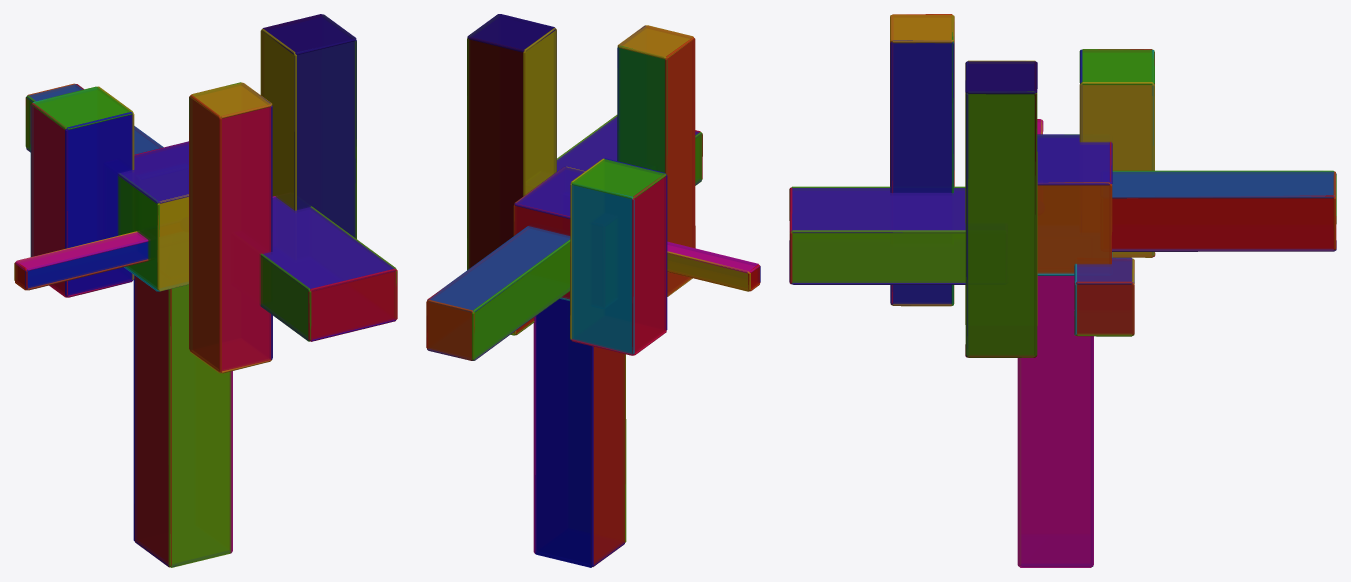
The picture shows the model from 3 angles, left to right: view 1: azimuth 30°, elevation 25°; view 2: azimuth 150°, elevation 25°; view 3: azimuth 270°, elevation 25°; orthographic projection. The views are drawn at different scales.
Parts seen in each view (by area): view 1: Untitled_53_DiamondHull_geo_c8313697256347fc832e290f4c04b901; view 2: Untitled_53_DiamondHull_geo_c8313697256347fc832e290f4c04b901; view 3: Untitled_53_DiamondHull_geo_c8313697256347fc832e290f4c04b901.
Part boxes in pixels (x1,y1,x2,y2): Untitled_53_DiamondHull_geo_c8313697256347fc832e290f4c04b901: (14, 14, 397, 567); Untitled_53_DiamondHull_geo_c8313697256347fc832e290f4c04b901: (426, 14, 760, 567); Untitled_53_DiamondHull_geo_c8313697256347fc832e290f4c04b901: (789, 14, 1336, 567).
Size of the model in its own units: 10.27 by 16.33 by 15.38.
Materials: 1 (1 with a texture image).
